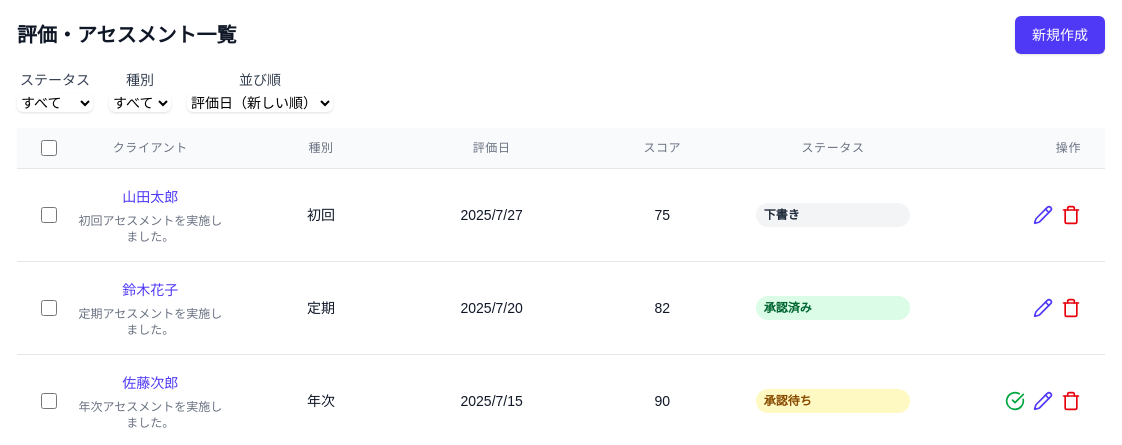
Test: AssessmentList › フィルタリング › ステータスでフィルタリングできる
Select "下書き" in the dropdown labelled "ステータス". click: (55, 103)
box: [17,94,93,112]
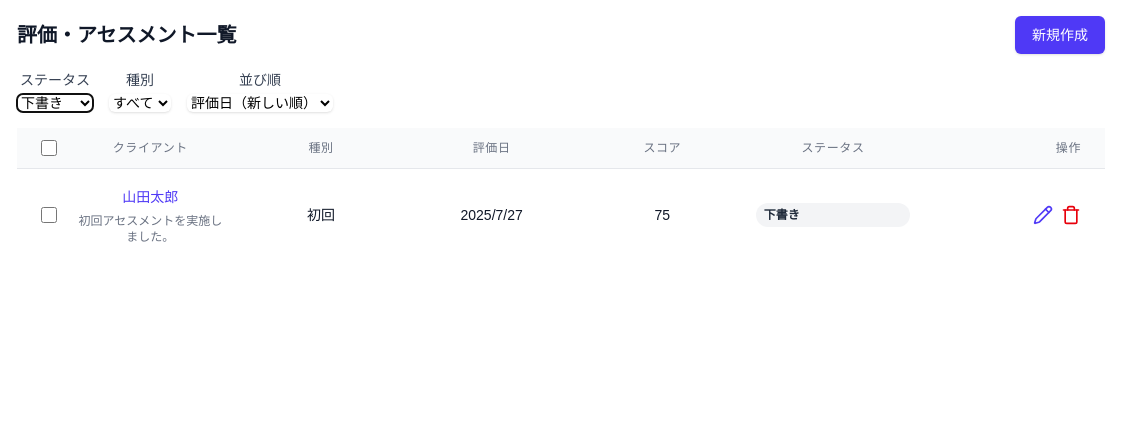
Expected: the text "初回アセスメントを実施しました。" is shown, [73,213,228,245]
Now the text "定期アセスメントを実施しました。" is gone
Now the text "年次アセスメントを実施しました。" is gone
